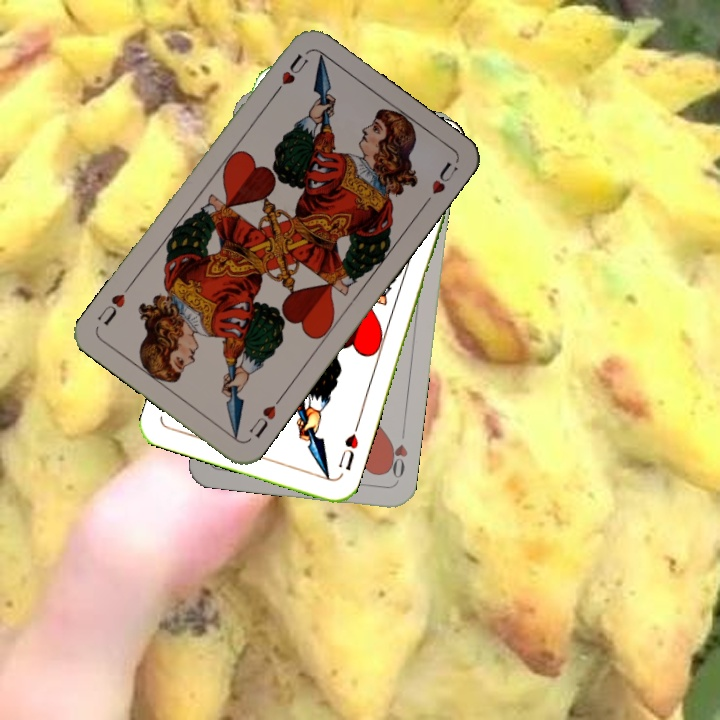HO: (382, 435, 410, 481)
HU: (269, 49, 311, 99), (245, 392, 285, 441), (334, 421, 361, 474)
